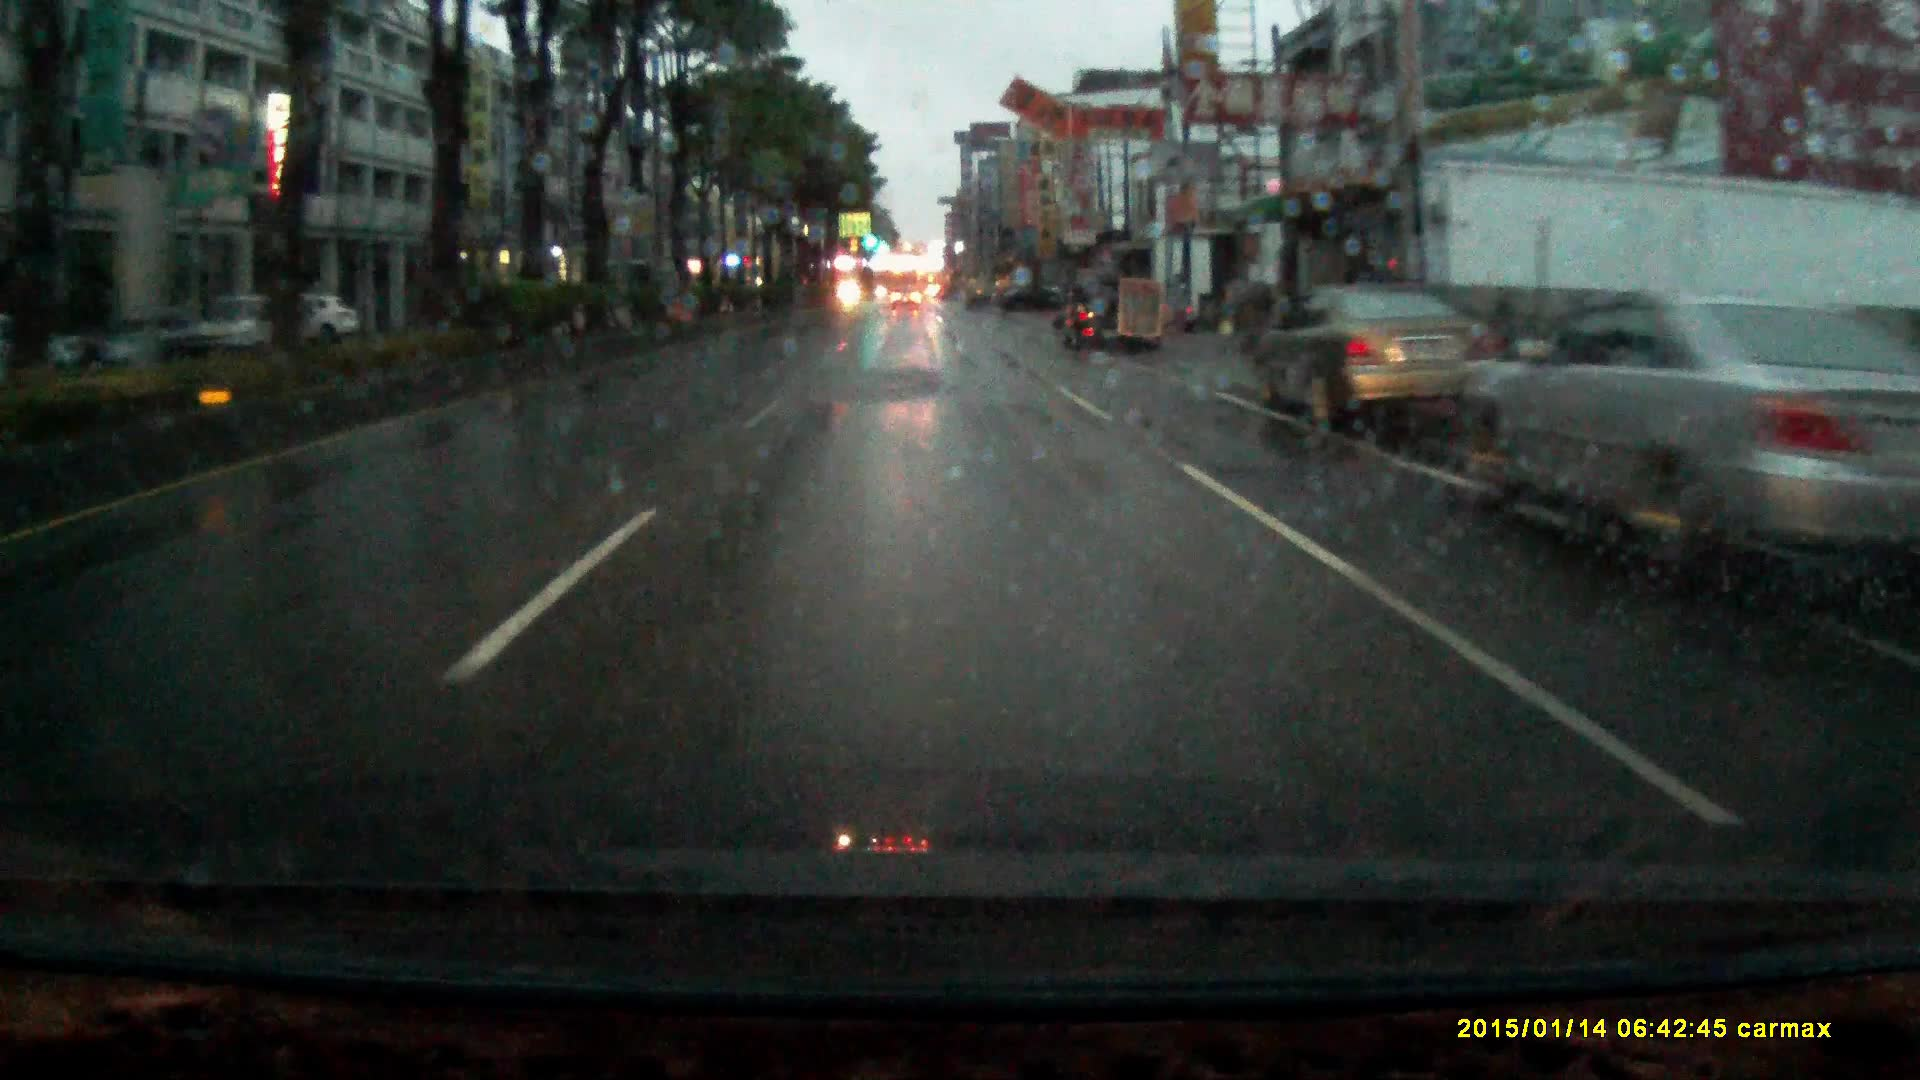vehicle: (1460, 293, 1844, 580), (1254, 278, 1497, 419), (179, 298, 326, 365), (1064, 268, 1156, 353), (891, 284, 920, 309)
